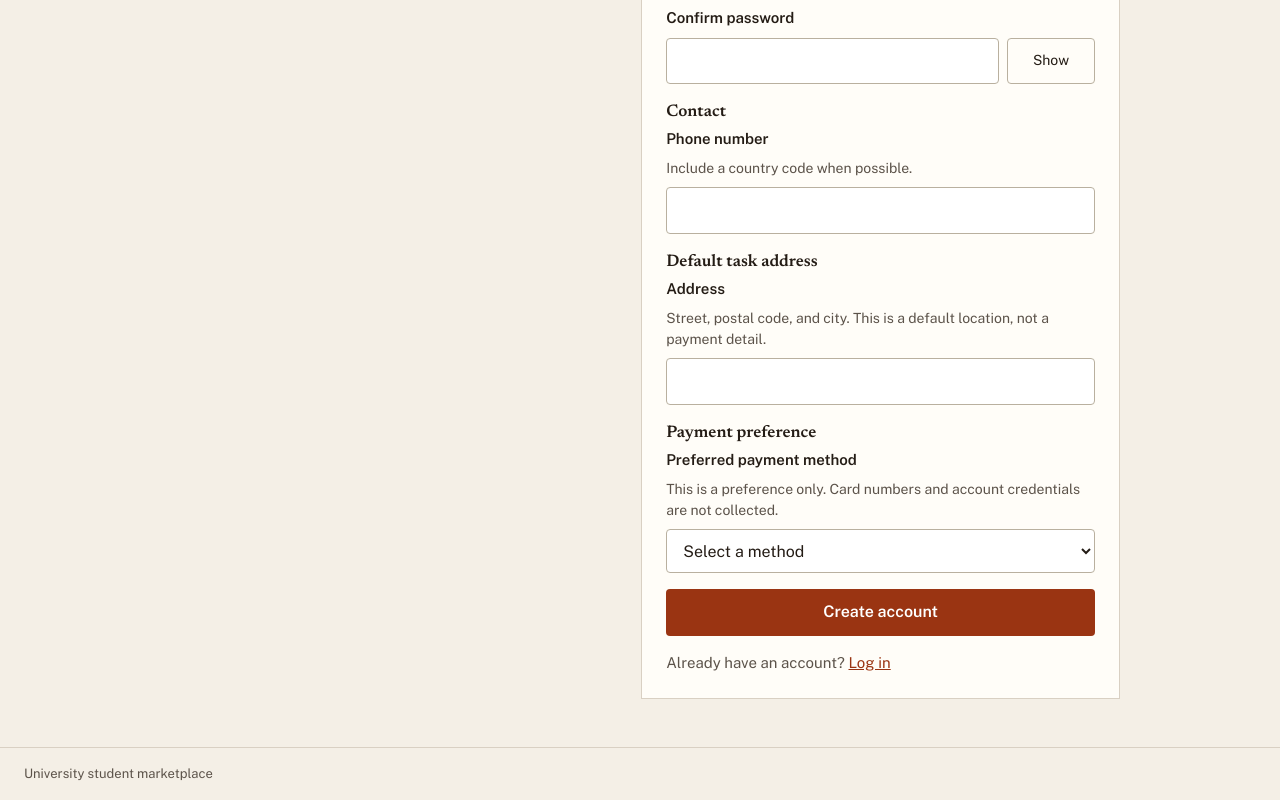
Test: Help Seeker registration › validates required fields
(page scrolled)
Click the button "Create account" at (881, 612), box [666,589,1095,636]
(page scrolled)
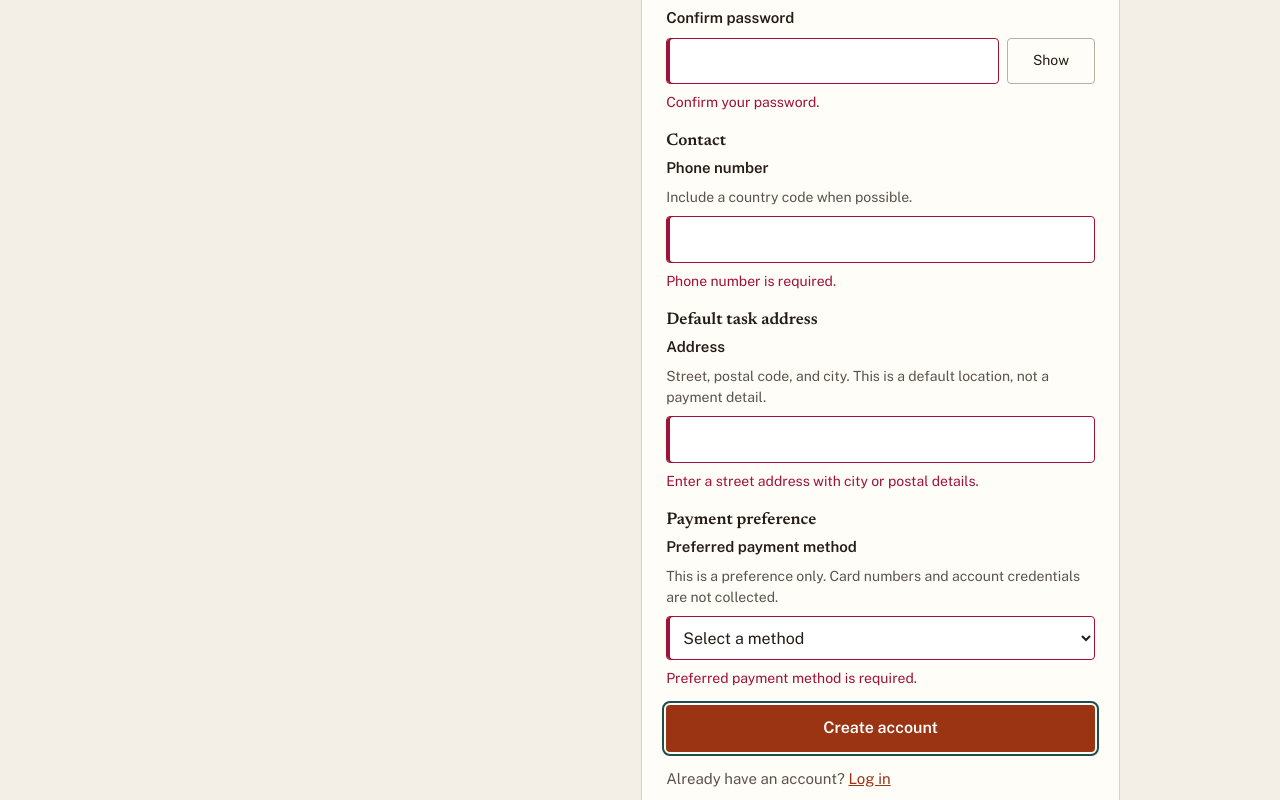
Result: the text "Phone number is required." is shown at [666,273,836,289]
